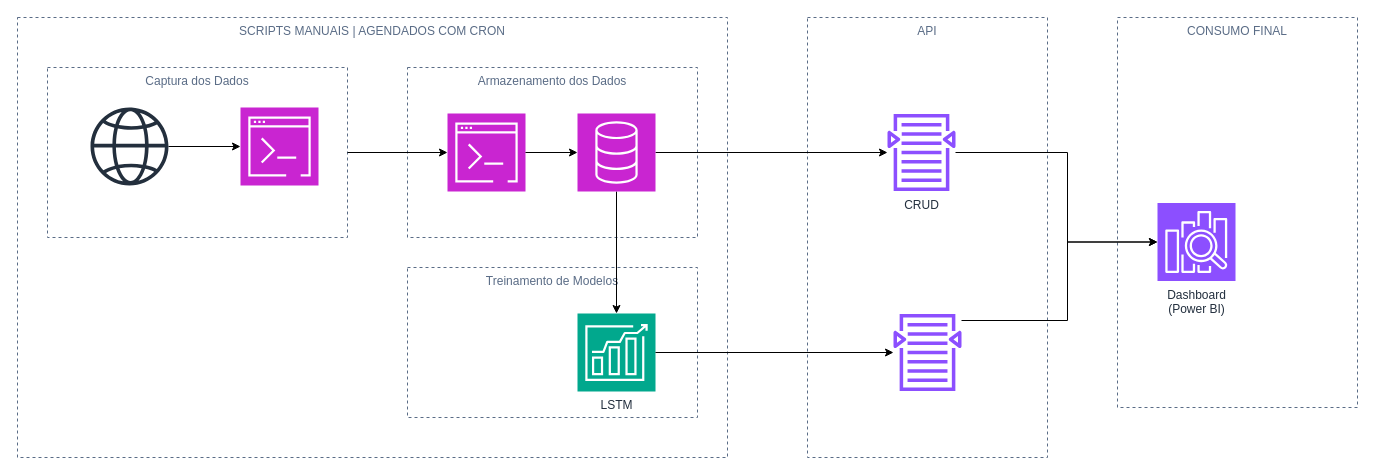
The diagram is 1375 pixels wide and 475 high, and some of its shapes have lost their labels. Each missing label, with the centre of its shape:
"API Scraping" goes at [279,146].
"CONSUMO DO MODELO TREINADO" goes at [927,352].
"Dados Tratados" goes at [616,152].
"Dataprep" goes at [486,152].
"Embrapa" goes at [129,146].
